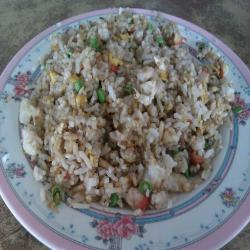rice: (31, 33, 222, 211)
